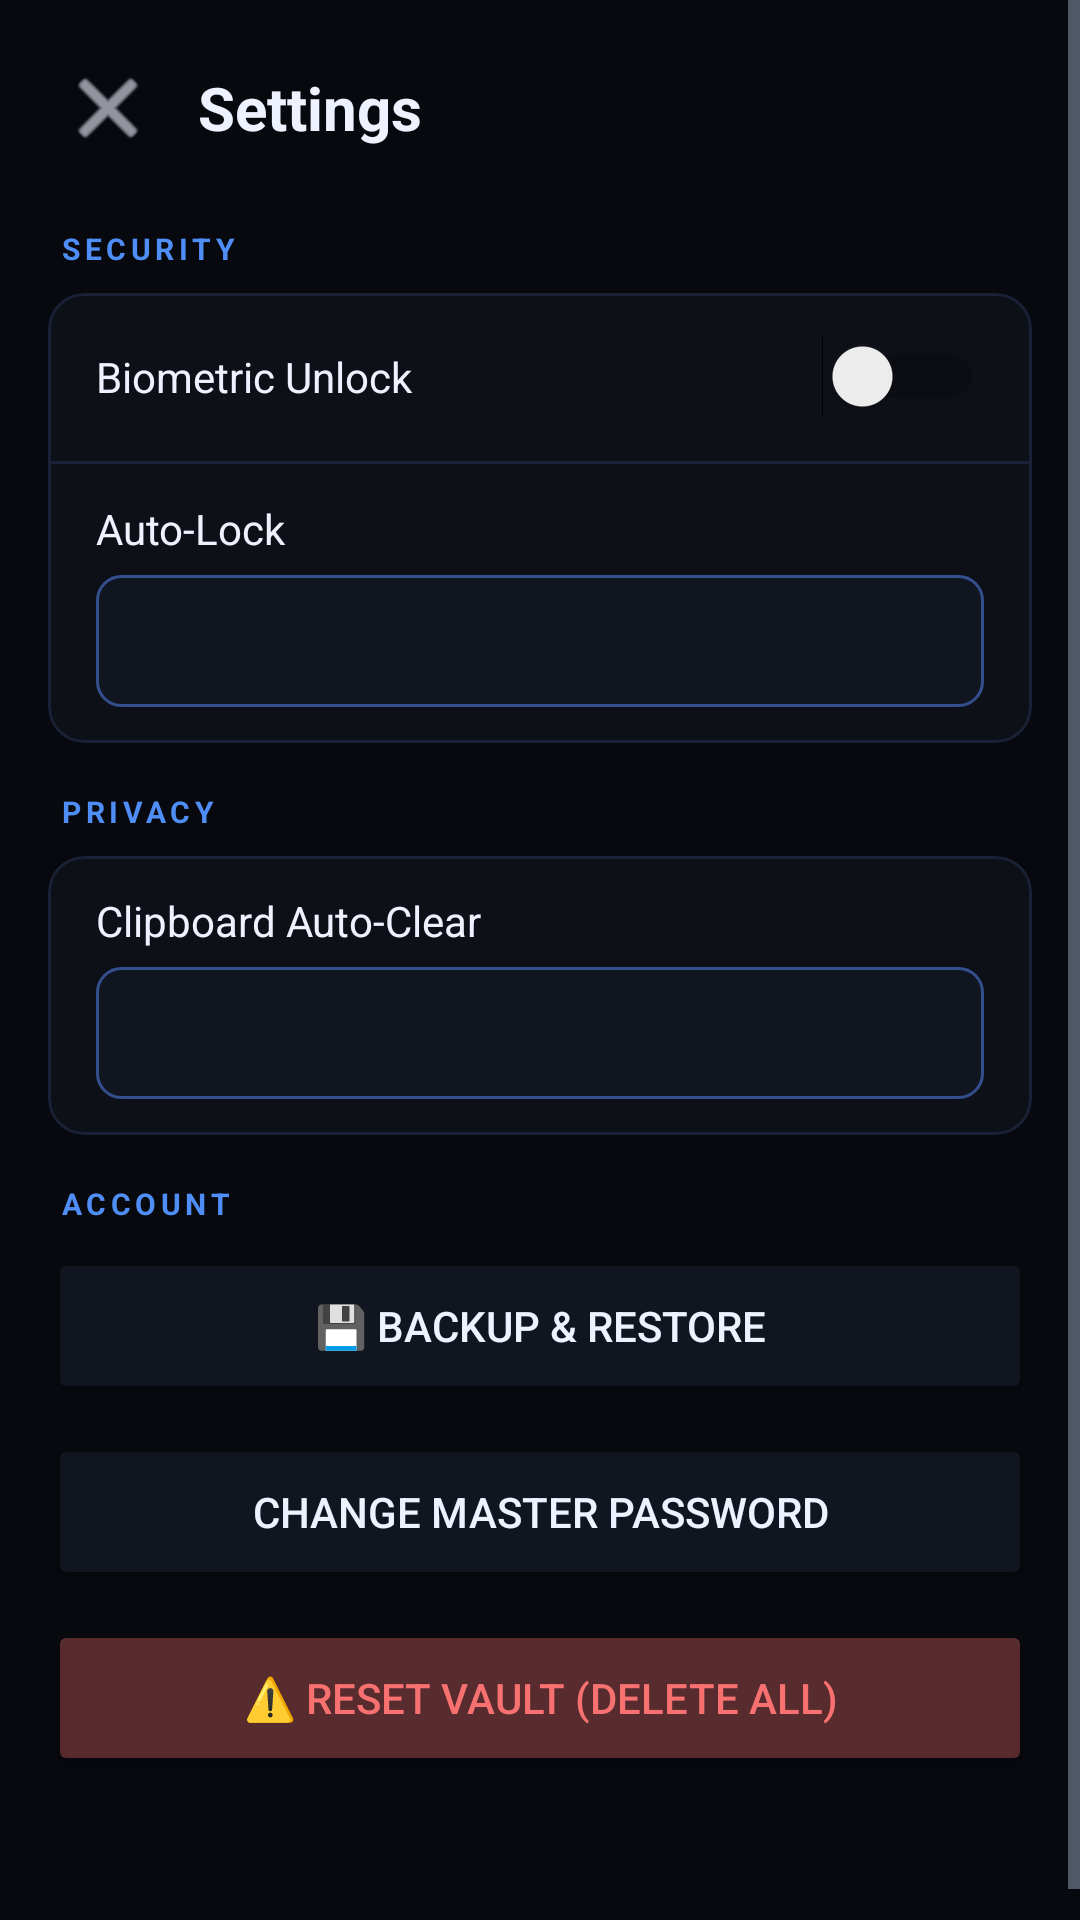

Point at icon controls on the screen. Image size 1080*1920, points as (x=x, y=y).
close clear cancel: (x=108, y=108)
